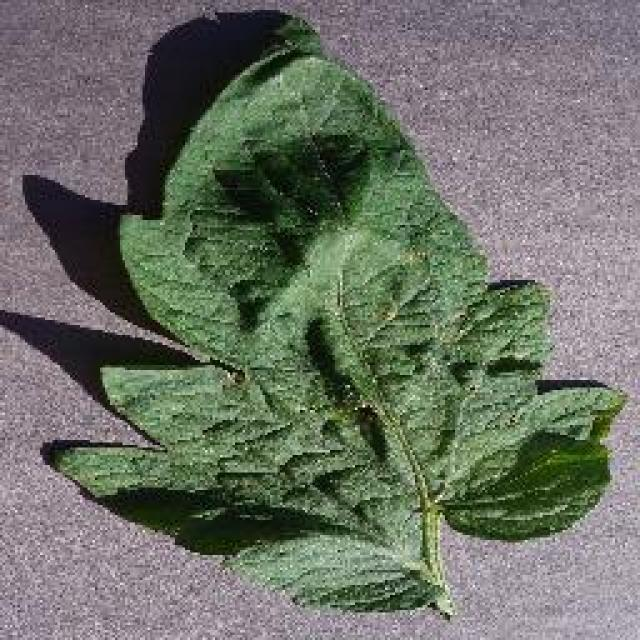Tom_Target_Spot: (322, 215, 478, 361)
